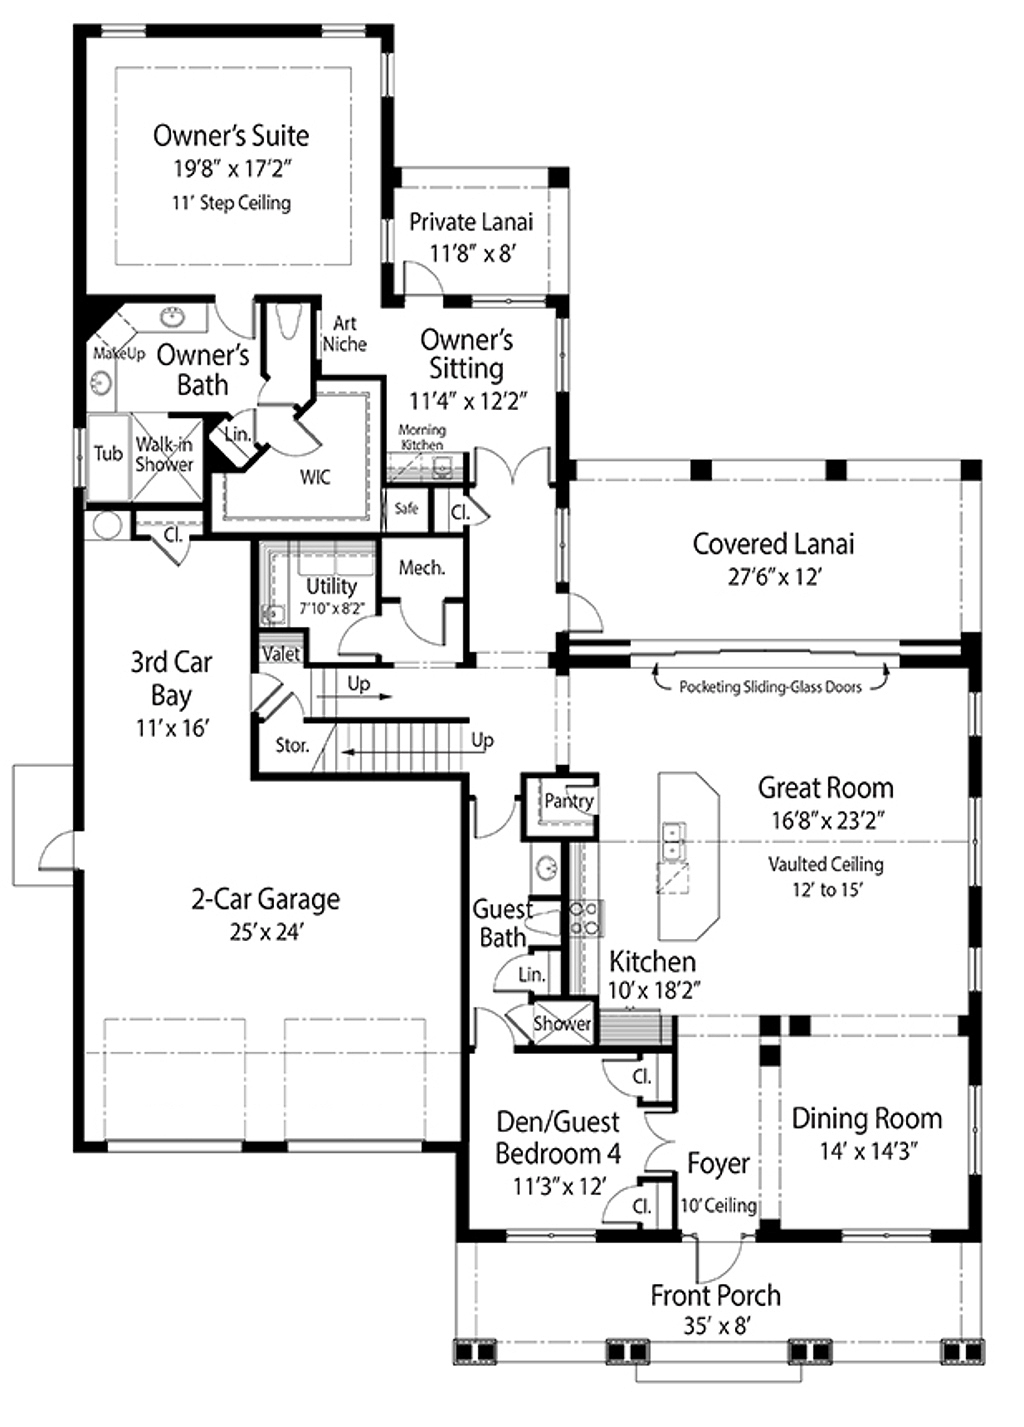door: (475, 442, 553, 493), (396, 600, 450, 654), (462, 790, 518, 840), (211, 295, 258, 350), (32, 824, 82, 874), (562, 584, 608, 637), (690, 1233, 740, 1281), (270, 421, 322, 466), (402, 260, 447, 310), (340, 612, 375, 659)
kitchen_bar: (653, 766, 725, 948)
small_sink: (402, 257, 447, 319), (528, 834, 564, 897), (88, 350, 119, 418), (134, 306, 203, 336)
stairs: (300, 663, 494, 778)
windows: (99, 1137, 247, 1162), (281, 1135, 424, 1160), (491, 1224, 600, 1250), (831, 1224, 935, 1250), (964, 786, 987, 892), (552, 306, 573, 396), (967, 1078, 984, 1183)
